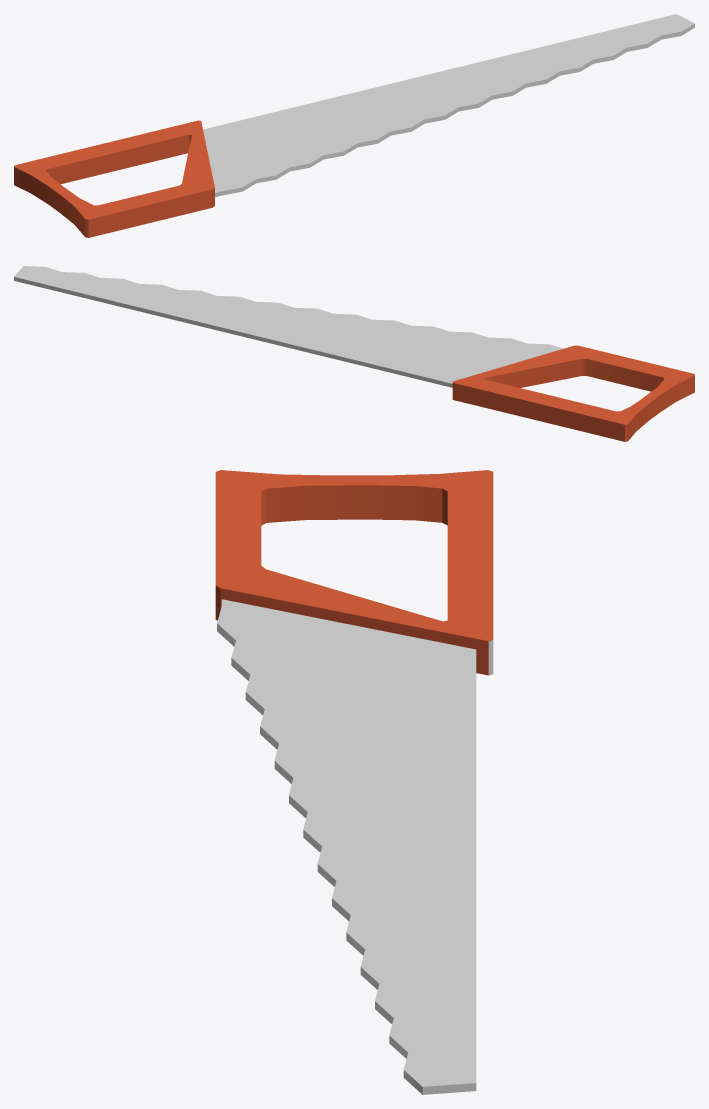
File: SM_Saw.FBX
3 views of the same model, one above another, from view 1: azimuth 30°, elevation 25°; view 2: azimuth 150°, elevation 25°; view 3: azimuth 270°, elevation 25° (orthographic). The views are drawn at different scales.
Parts seen in each view (by area): view 1: saw; view 2: saw; view 3: saw.
Boxes of the visible parts, x1,y1,x2,y2 form: saw: (14, 14, 694, 237); saw: (14, 266, 694, 441); saw: (215, 470, 493, 1094).
Size of the model in its own units: 36.18 by 0.9546 by 7.01.
